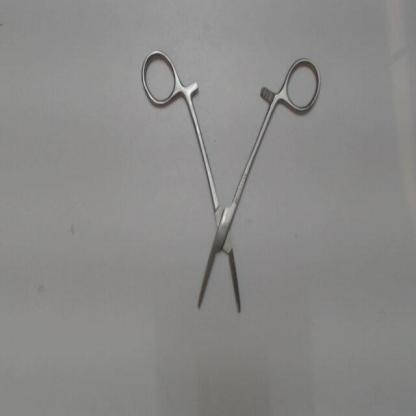Mayo Needle Holder: (136, 44, 327, 325)
